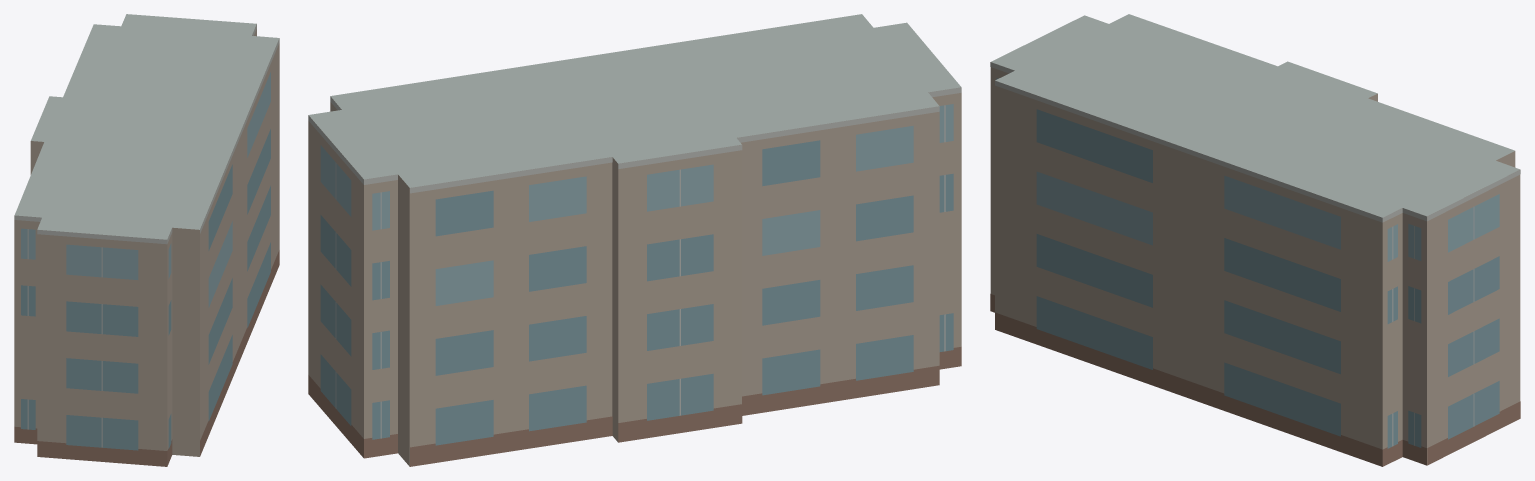
Rendered from survey-upis-32534480.glb.
3 views of the same model, side by side, from view 1: azimuth 30°, elevation 25°; view 2: azimuth 150°, elevation 25°; view 3: azimuth 270°, elevation 25° (orthographic). The views are drawn at different scales.
Parts seen in each view (by area): view 1: survey-upis-32534480.tmp; view 2: survey-upis-32534480.tmp; view 3: survey-upis-32534480.tmp.
Boxes of the visible parts, box(x1,y1,x2,y2) form: survey-upis-32534480.tmp: box(14, 14, 279, 466); survey-upis-32534480.tmp: box(308, 14, 961, 466); survey-upis-32534480.tmp: box(990, 14, 1520, 466).
Size of the model in its own units: 21.67 by 12.35 by 23.81.
